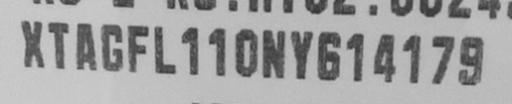letter: (368, 30, 398, 82), (230, 26, 260, 76), (396, 30, 424, 82), (457, 33, 485, 85), (315, 28, 343, 79), (428, 33, 456, 84), (45, 20, 73, 69), (260, 28, 288, 76), (204, 25, 230, 76), (98, 23, 126, 70), (20, 18, 46, 68), (344, 30, 368, 82), (178, 26, 202, 76), (290, 27, 314, 77), (72, 22, 98, 68), (125, 24, 151, 70), (152, 26, 176, 74)
